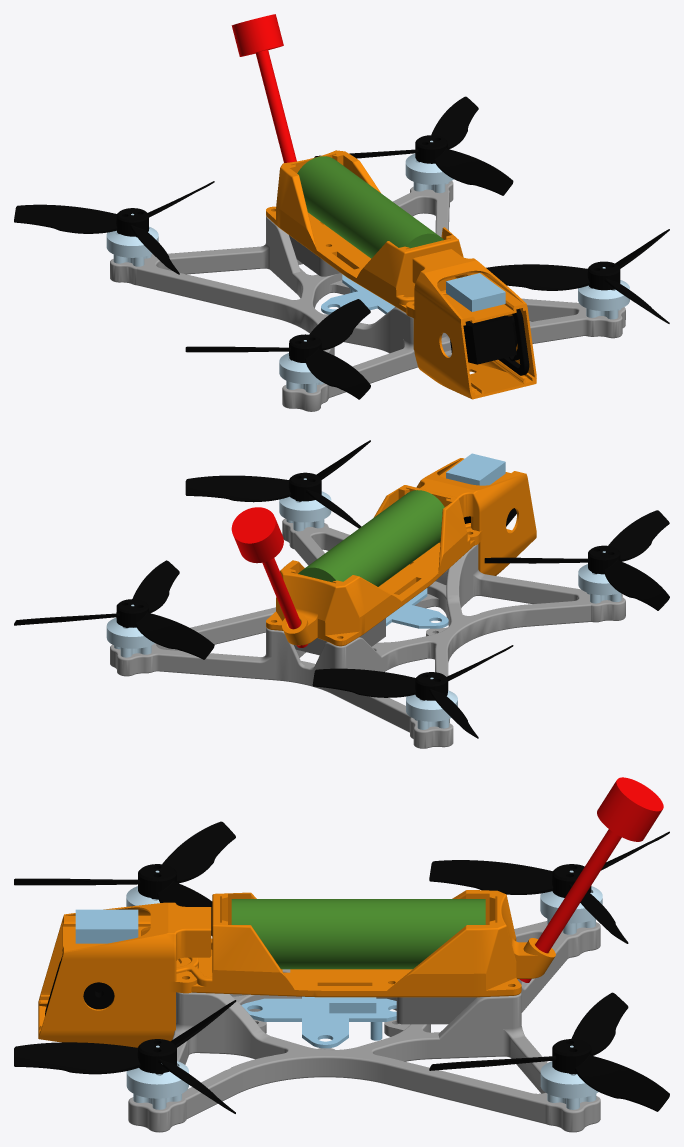
Rendered from drone.glb.
3 views of the same model, one above another, from view 1: azimuth 30°, elevation 25°; view 2: azimuth 150°, elevation 25°; view 3: azimuth 270°, elevation 25° (orthographic). The views are drawn at different scales.
Visible parts, largest first — view 1: frame, canopy, battery_tray, accu18650, Part 2, Part 2_3, Part 2_2, Part 2_1, cherry_antenna, camera, gps, moteur_3 (+6 smaller); view 2: frame, battery_tray, accu18650, canopy, Part 2, Part 2_3, Part 2_2, Part 2_1, cherry_antenna, gps, moteur_3, fc (+4 smaller); view 3: frame, battery_tray, canopy, accu18650, Part 2_3, Part 2_1, cherry_antenna, Part 2_2, Part 2, fc, gps, vtx (+4 smaller).
Boxes of the visible parts, x1,y1,x2,y2 form: frame: [110, 181, 625, 411]; canopy: [406, 249, 536, 399]; battery_tray: [266, 150, 463, 312]; accu18650: [297, 156, 443, 258]; Part 2: [185, 299, 370, 399]; Part 2_3: [314, 96, 513, 195]; Part 2_2: [14, 181, 214, 274]; Part 2_1: [486, 229, 669, 323]; cherry_antenna: [231, 14, 296, 162]; camera: [450, 315, 516, 364]; gps: [446, 273, 505, 311]; moteur_3: [578, 267, 629, 319]; frame: [110, 518, 625, 748]; battery_tray: [266, 485, 474, 646]; accu18650: [298, 490, 444, 586]; canopy: [416, 458, 536, 575]; Part 2: [484, 510, 669, 610]; Part 2_3: [14, 560, 214, 659]; Part 2_2: [312, 645, 513, 738]; Part 2_1: [185, 440, 370, 528]; cherry_antenna: [231, 507, 307, 647]; gps: [446, 453, 505, 485]; moteur_3: [279, 478, 331, 531]; fc: [386, 588, 448, 628]; frame: [128, 921, 600, 1132]; battery_tray: [176, 890, 555, 997]; canopy: [38, 902, 211, 1047]; accu18650: [231, 899, 485, 969]; Part 2_3: [429, 992, 669, 1111]; Part 2_1: [14, 1000, 236, 1113]; cherry_antenna: [519, 777, 663, 982]; Part 2_2: [429, 831, 669, 943]; Part 2: [14, 821, 235, 935]; fc: [241, 996, 396, 1048]; gps: [75, 909, 138, 943]; vtx: [396, 997, 476, 1024].
Size of the model in its own units: 0.1714 by 0.0735 by 0.1679.
